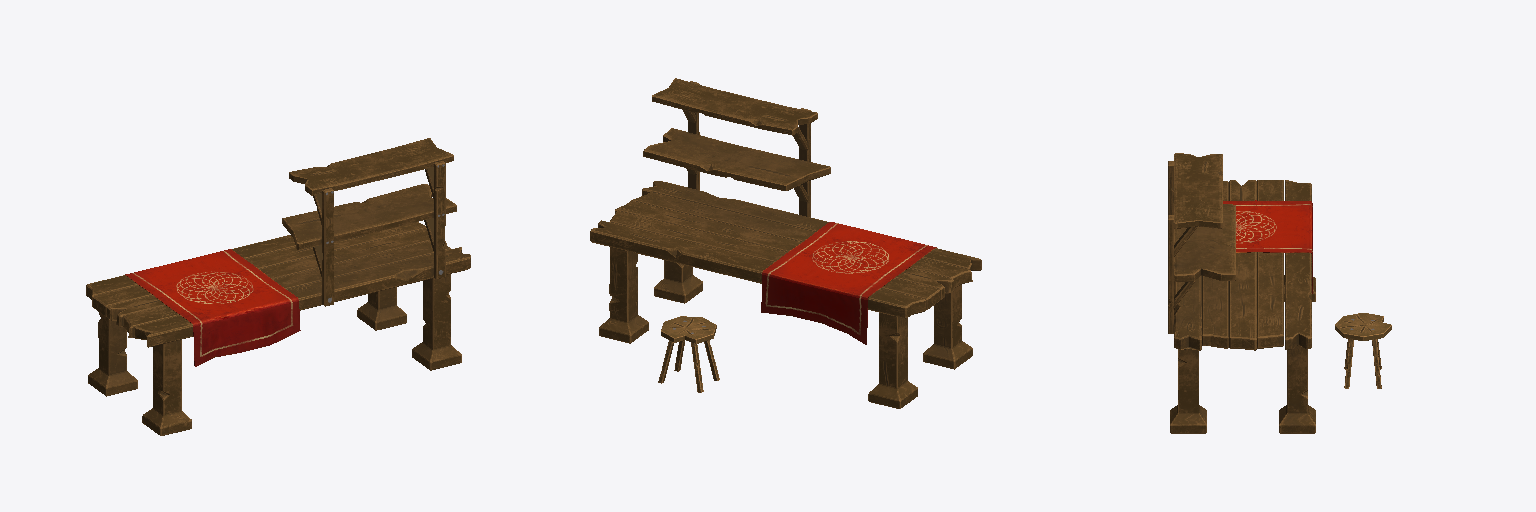
The picture shows the model from 3 angles: view 1: azimuth 30°, elevation 25°; view 2: azimuth 150°, elevation 25°; view 3: azimuth 270°, elevation 25°; orthographic projection.
Parts seen in each view (by area): view 1: LP_table_Mesh, LP_textil_Mesh.001; view 2: LP_table_Mesh, LP_textil_Mesh.001, LP_stool_Mesh.002; view 3: LP_table_Mesh, LP_textil_Mesh.001, LP_stool_Mesh.002.
Boxes of the visible parts, <box> form: LP_table_Mesh: <box>86,138,470,435</box>; LP_textil_Mesh.001: <box>125,249,300,366</box>; LP_table_Mesh: <box>590,78,981,408</box>; LP_textil_Mesh.001: <box>761,222,936,344</box>; LP_stool_Mesh.002: <box>658,316,719,392</box>; LP_table_Mesh: <box>1168,153,1315,433</box>; LP_textil_Mesh.001: <box>1223,200,1312,293</box>; LP_stool_Mesh.002: <box>1335,313,1391,388</box>.
Size of the model in its own units: 62.04 by 37.16 by 36.33.
1 materials, 1 textured.